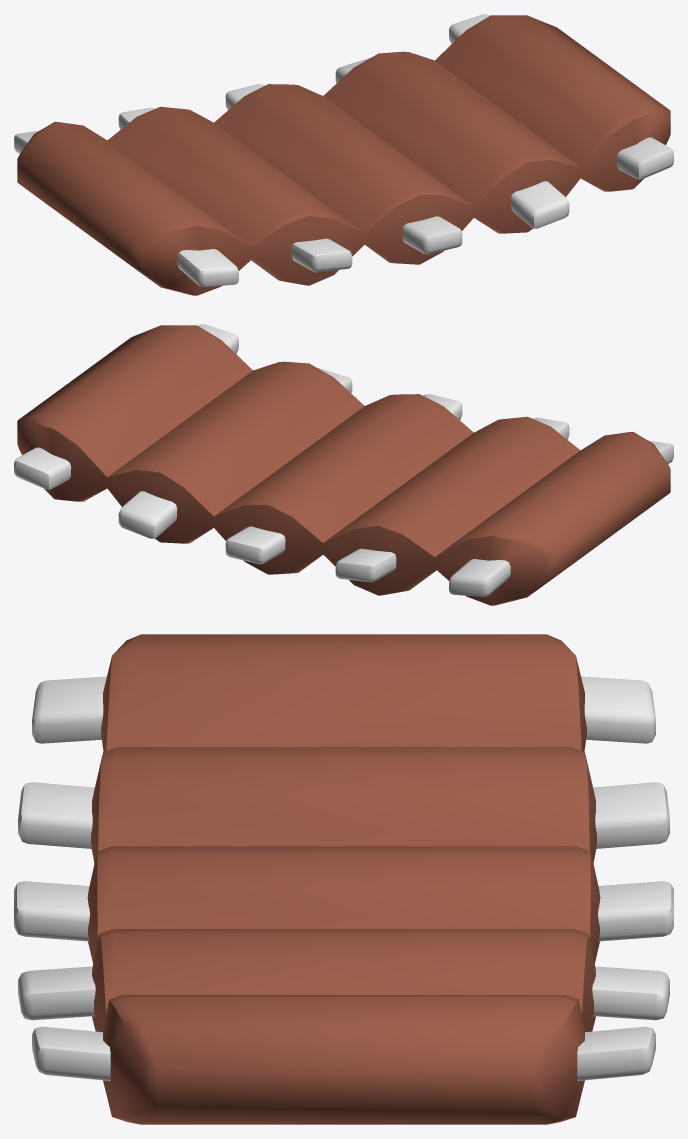
The model's file is ribs.gltf.glb.
3 renders of one model, top to bottom at view 1: azimuth 30°, elevation 25°; view 2: azimuth 150°, elevation 25°; view 3: azimuth 270°, elevation 25°, orthographic. The views are drawn at different scales.
Visible parts, largest first — view 1: ribs; view 2: ribs; view 3: ribs.
Boxes of the visible parts, x1=… form: ribs: x1=14, y1=14, x2=673, y2=295; ribs: x1=14, y1=324, x2=673, y2=605; ribs: x1=14, y1=634, x2=673, y2=1124.
Size of the model in its own units: 1.17 by 0.1959 by 0.7584.
